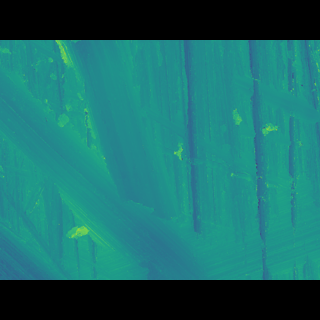Loch: (0, 71, 207, 250)
